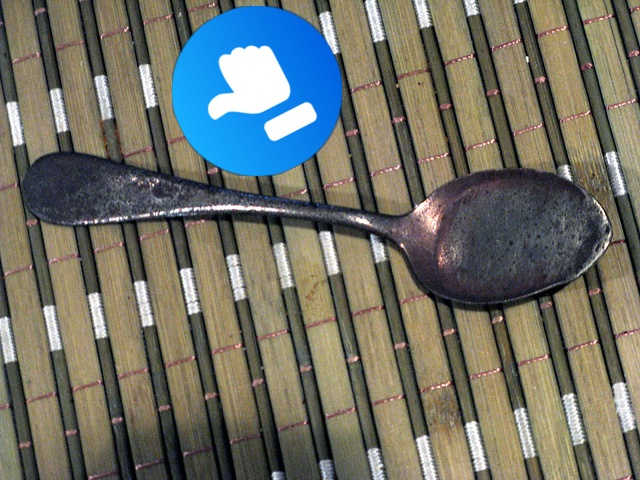like: (172, 6, 342, 176)
